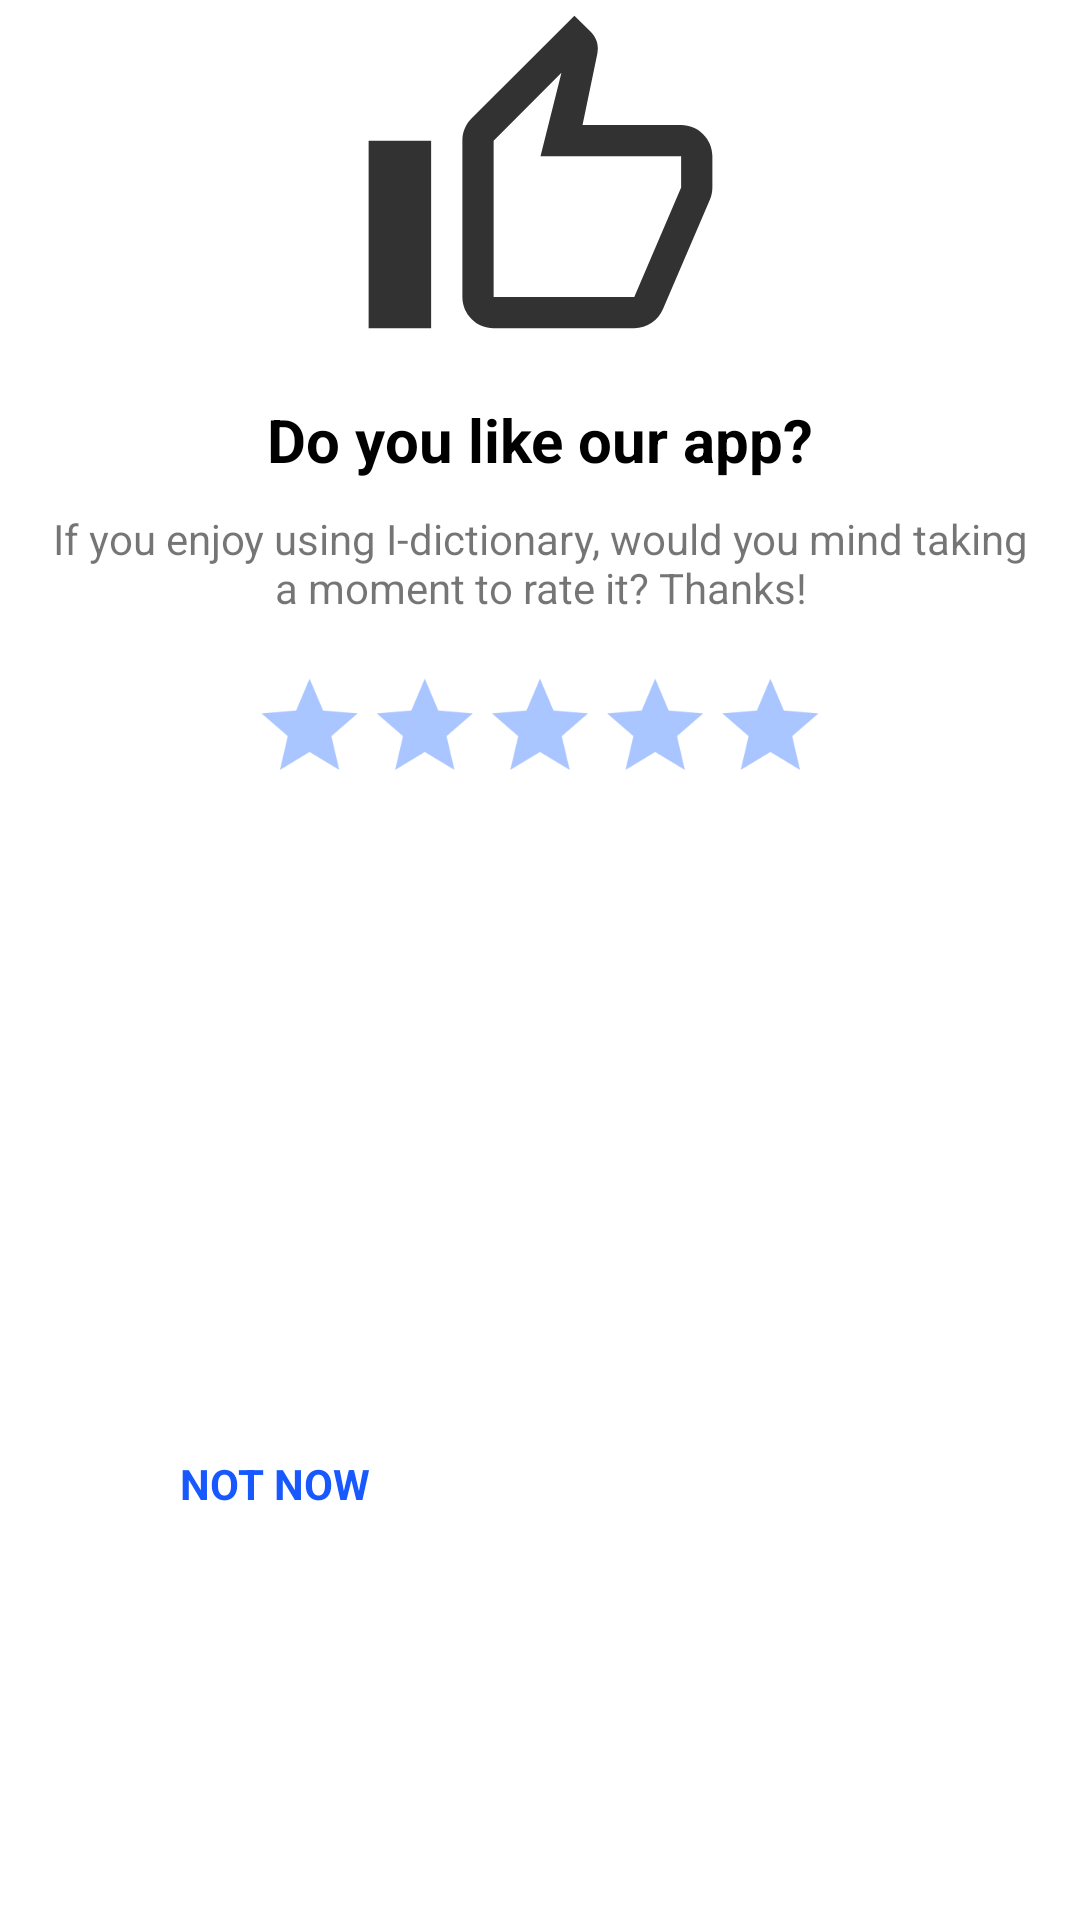

Screen size 1080 × 1920. Icon name, then its center in pixels as [x,y]:
thumb up: [540,172]
